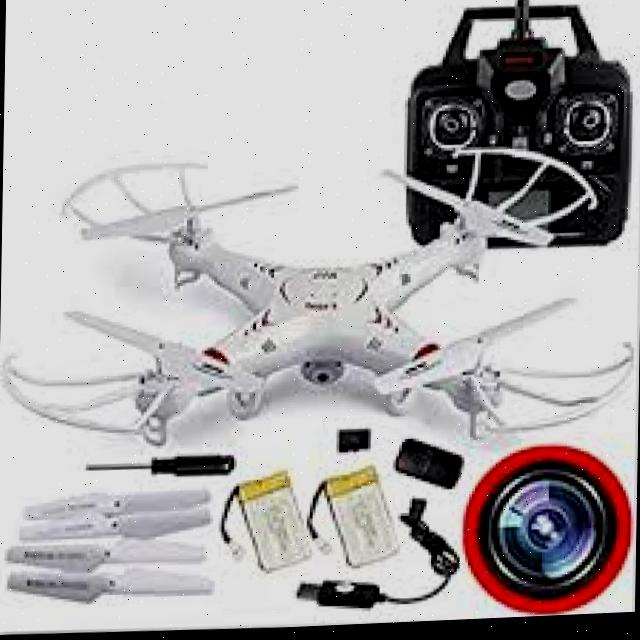drone: (24, 133, 618, 486)
